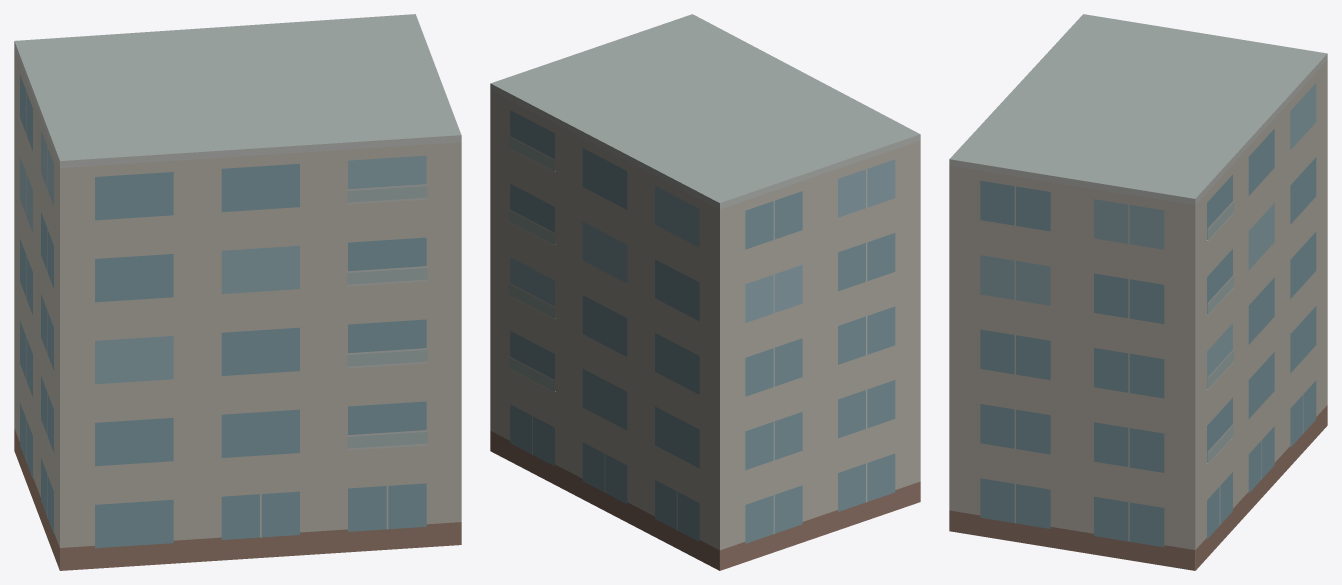
File: survey-upis-32870140.glb
3 renders of one model, left to right at view 1: azimuth 30°, elevation 25°; view 2: azimuth 150°, elevation 25°; view 3: azimuth 270°, elevation 25°, orthographic. The views are drawn at different scales.
Visible parts, largest first — view 1: survey-upis-32870140.tmp; view 2: survey-upis-32870140.tmp; view 3: survey-upis-32870140.tmp.
Part boxes in pixels (x1,y1,x2,y2): survey-upis-32870140.tmp: (14,14,461,570); survey-upis-32870140.tmp: (490,14,920,570); survey-upis-32870140.tmp: (949,14,1327,570).
Size of the model in its own units: 15.26 by 14.3 by 13.19.
